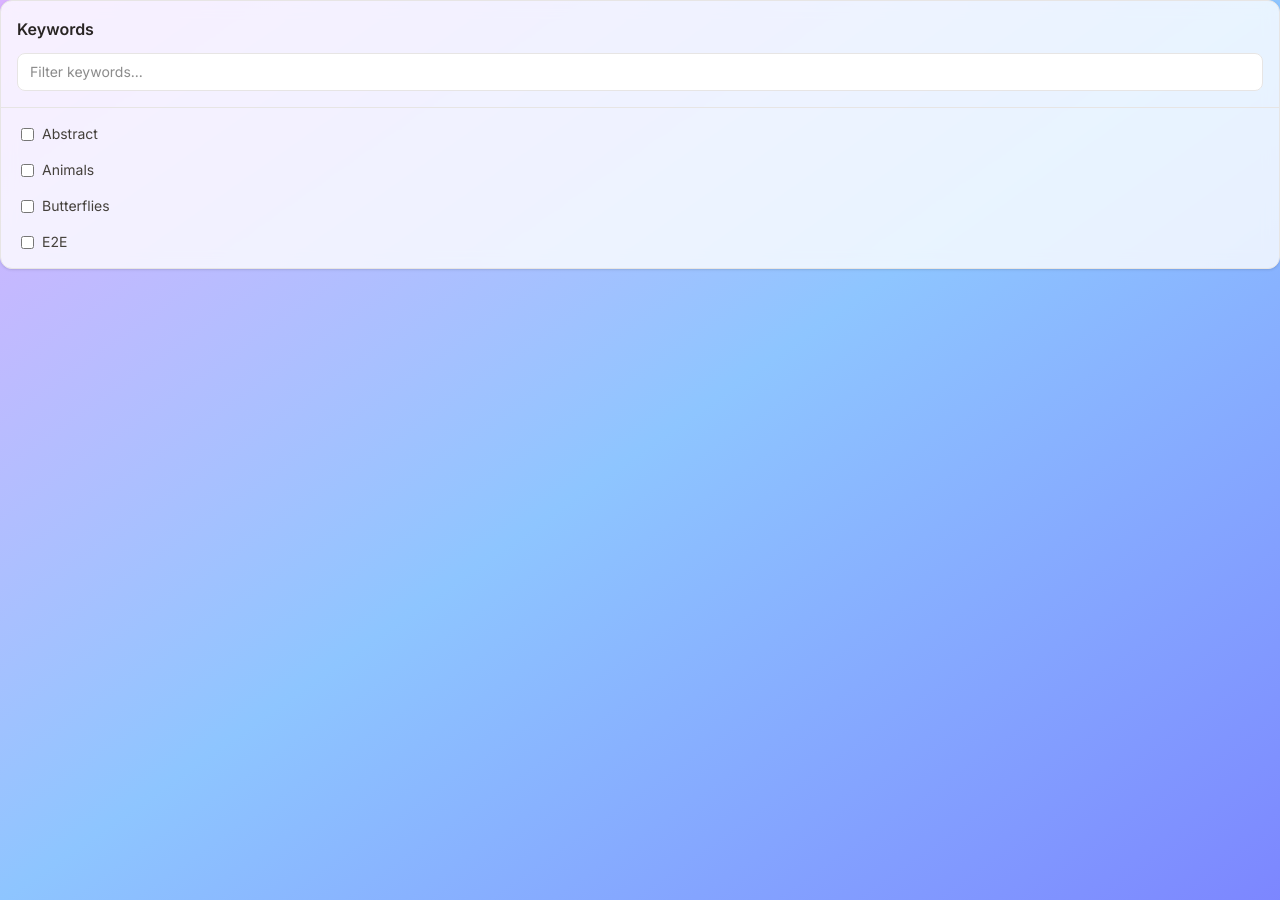
Test case: KeywordSidebar › filtering keywords › shows no results message when filter matches nothing
The width and height of the screenshot is (1280, 900).
In the field with placeholder "Filter keywords...": x=640, y=72 [17, 53, 1263, 91], type "xyz"
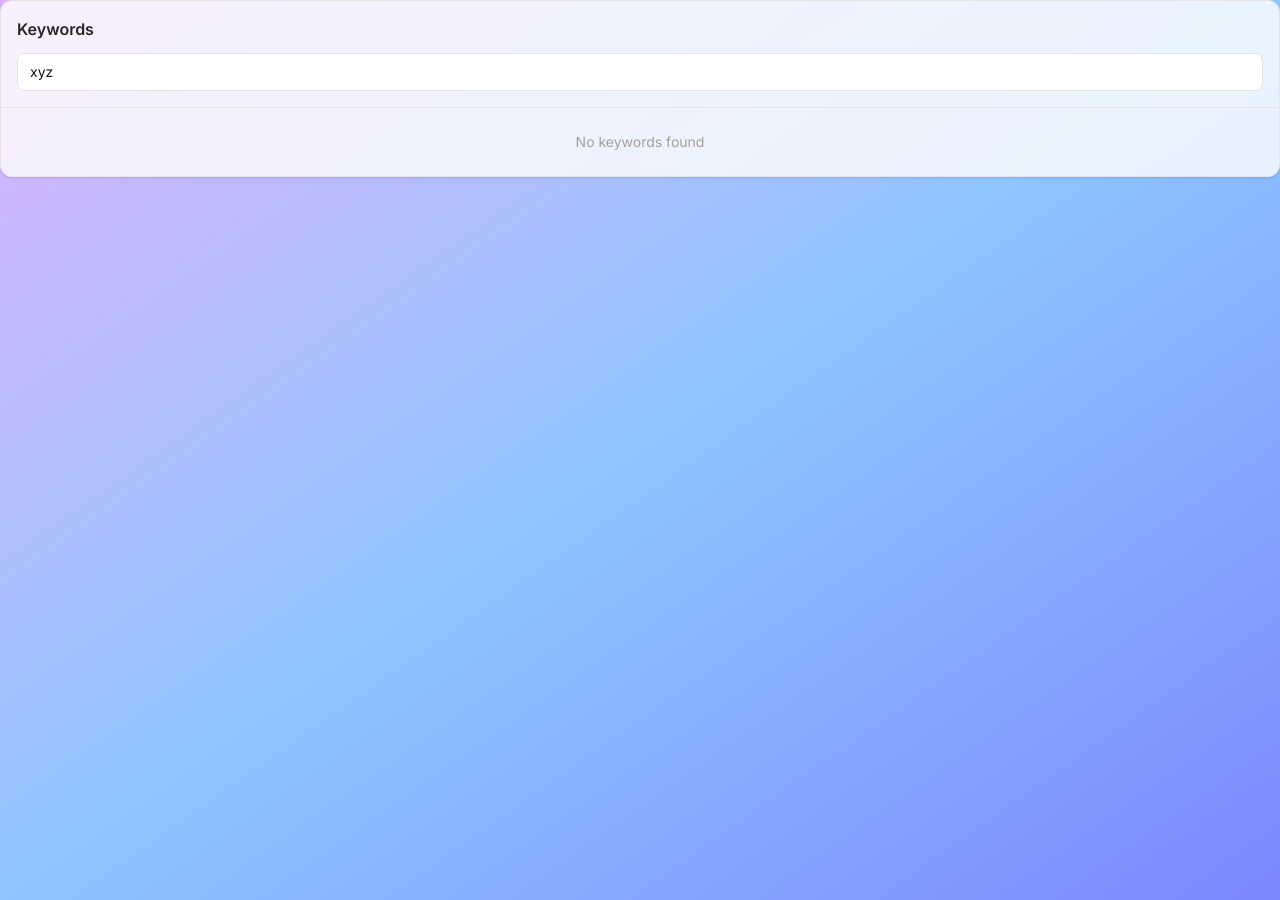
Expected: the text "No keywords found" is shown, [576, 133, 704, 150]
